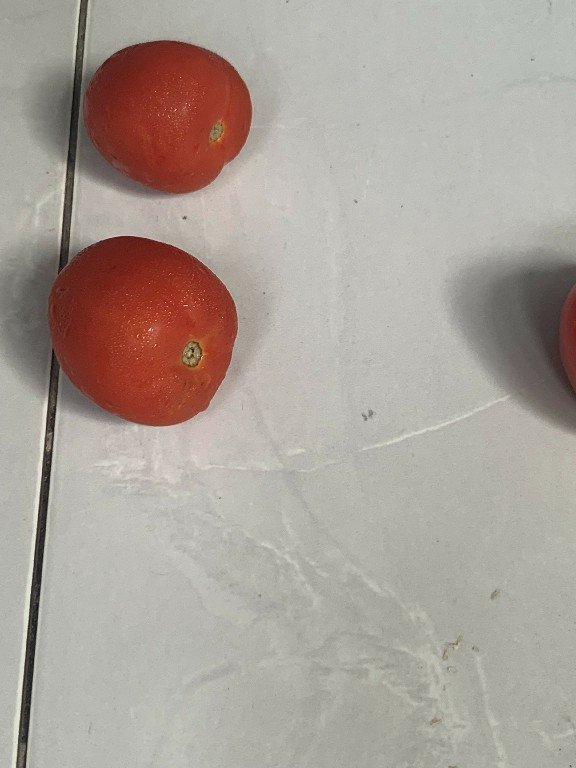OK: (46, 230, 236, 433), (76, 33, 257, 202)
